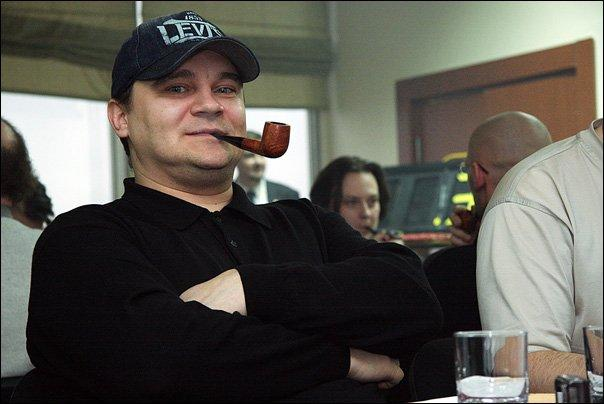trubka: (215, 121, 290, 158)
